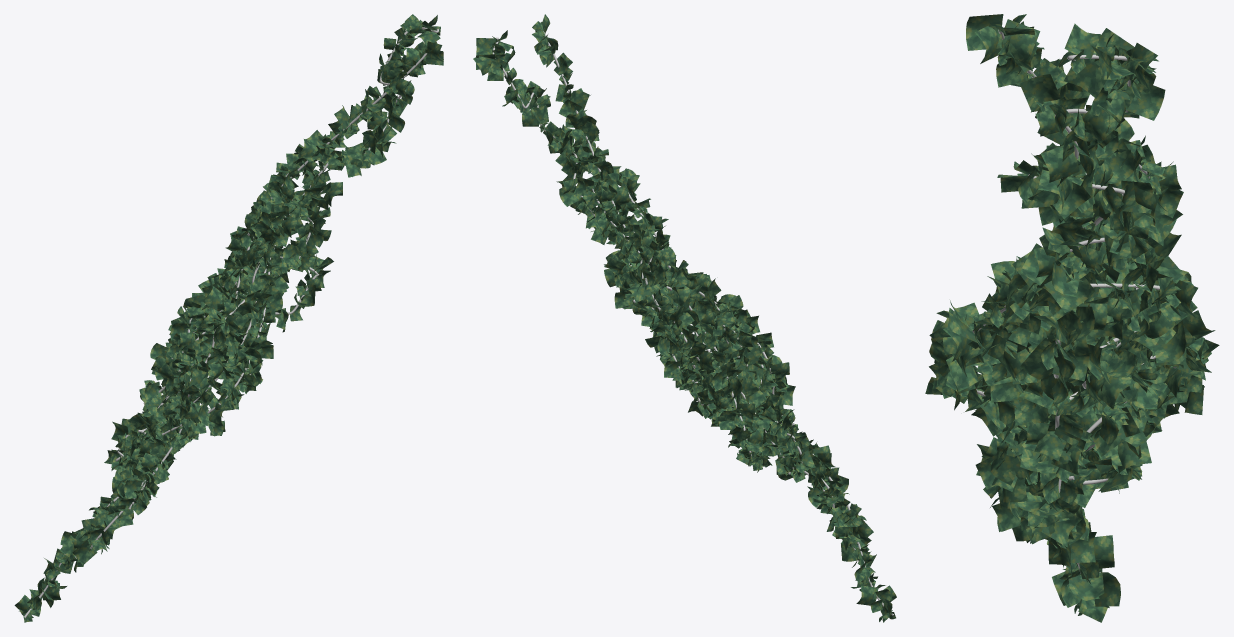
File: SM_Ivy_08.fbx
3 renders of one model, left to right at view 1: azimuth 30°, elevation 25°; view 2: azimuth 150°, elevation 25°; view 3: azimuth 270°, elevation 25°, orthographic. The views are drawn at different scales.
Parts seen in each view (by area): view 1: SM_Ivy_08_LOD0; view 2: SM_Ivy_08_LOD0; view 3: SM_Ivy_08_LOD0.
Part boxes in pixels (x1,y1,x2,y2): SM_Ivy_08_LOD0: (14,14,443,622); SM_Ivy_08_LOD0: (473,14,896,622); SM_Ivy_08_LOD0: (925,14,1219,622).
Size of the model in its own units: 427 by 136 by 489.
Materials: 2 (1 with a texture image).
